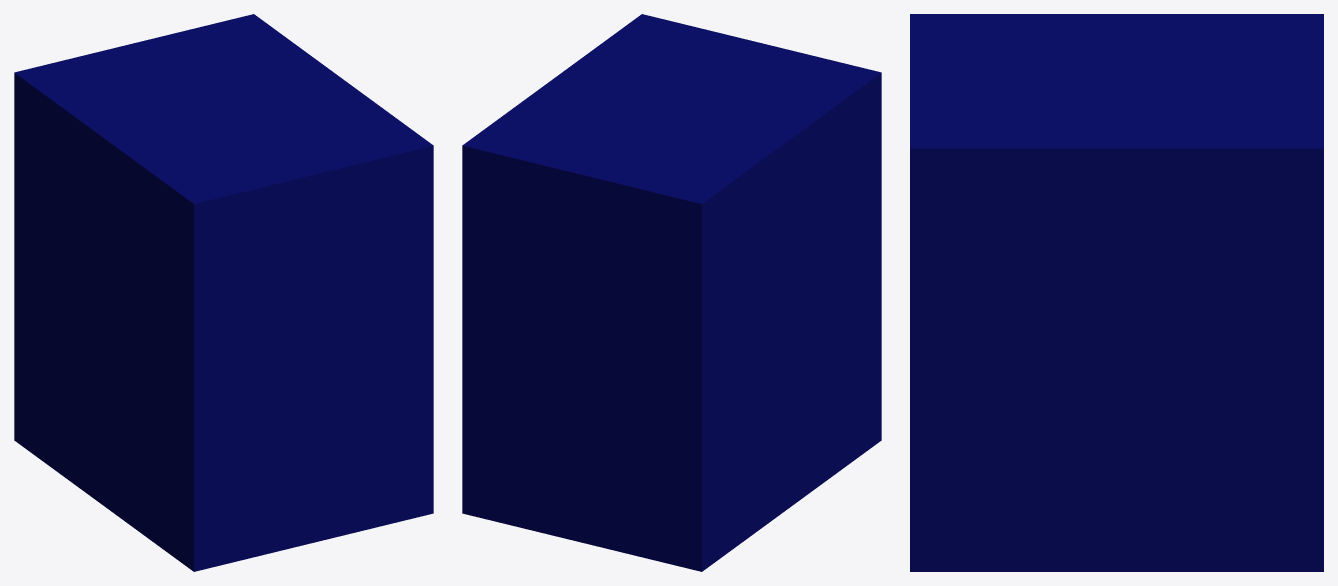
Rendered from log.FBX.
The picture shows the model from 3 angles, left to right: view 1: azimuth 30°, elevation 25°; view 2: azimuth 150°, elevation 25°; view 3: azimuth 270°, elevation 25°; orthographic projection. The views are drawn at different scales.
Visible parts, largest first — view 1: Box001; view 2: Box001; view 3: Box001.
Part boxes in pixels (<box>): Box001: <box>14,14,433,571</box>; Box001: <box>462,14,881,571</box>; Box001: <box>910,14,1323,571</box>.
Bounding box in the file's own units: 36.82 × 53.98 × 47.83.
